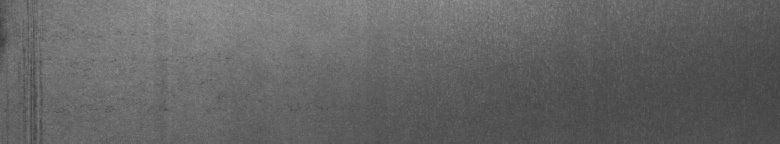ka: (4, 24, 44, 136)
